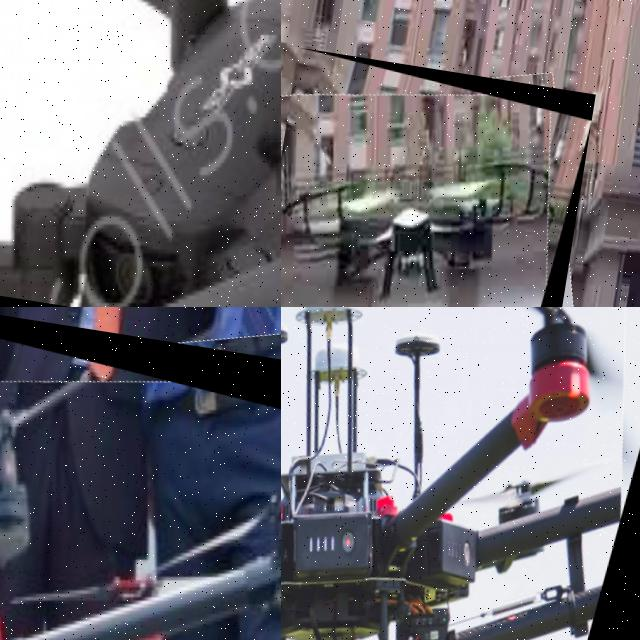drone: (281, 307, 640, 640), (0, 307, 281, 640), (0, 0, 281, 307), (281, 47, 596, 307)
